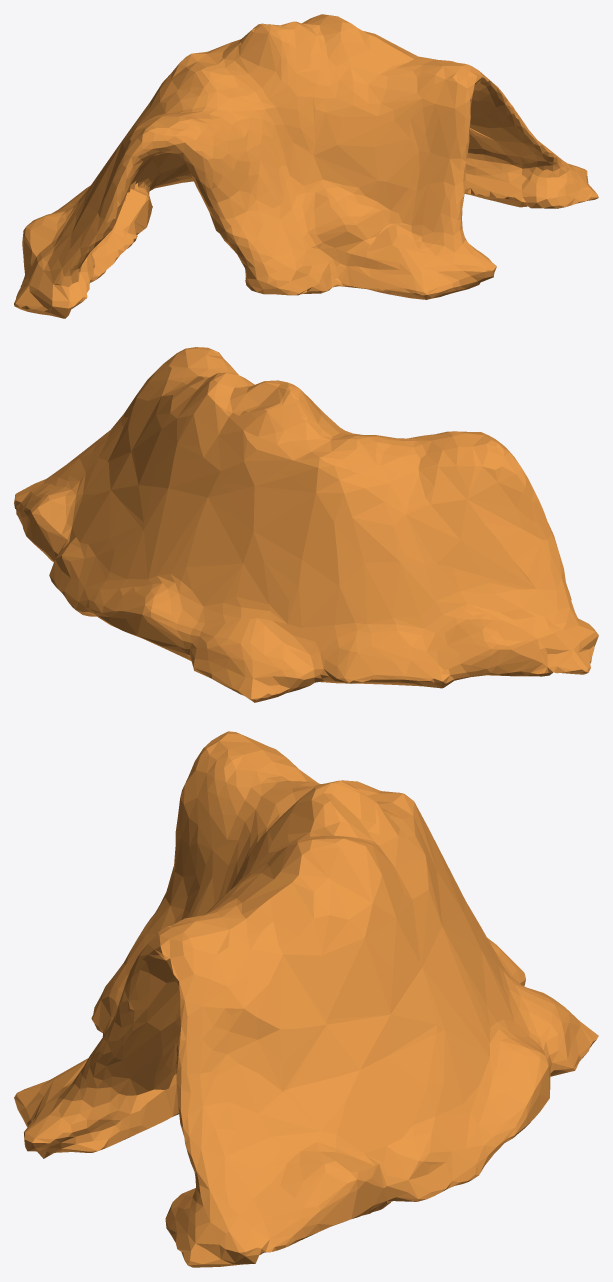
Rendered from SM_Tunnel3.fbx.
3 renders of one model, top to bottom at view 1: azimuth 30°, elevation 25°; view 2: azimuth 150°, elevation 25°; view 3: azimuth 270°, elevation 25°, orthographic. The views are drawn at different scales.
Parts seen in each view (by area): view 1: SM_Tunnel3; view 2: SM_Tunnel3; view 3: SM_Tunnel3.
Part boxes in pixels (left/top/right/bottom): SM_Tunnel3: left=14, top=14, right=598, bottom=318; SM_Tunnel3: left=14, top=347, right=598, bottom=702; SM_Tunnel3: left=14, top=731, right=598, bottom=1267.
Bounding box in the file's own units: 566 × 216 × 366.
